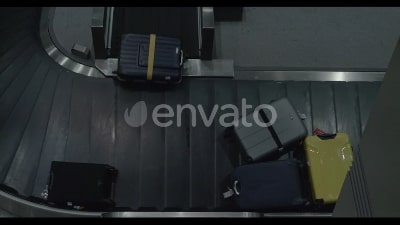baggage: (233, 97, 308, 157), (113, 33, 190, 89), (300, 134, 359, 204), (226, 163, 310, 211), (43, 158, 118, 209)
